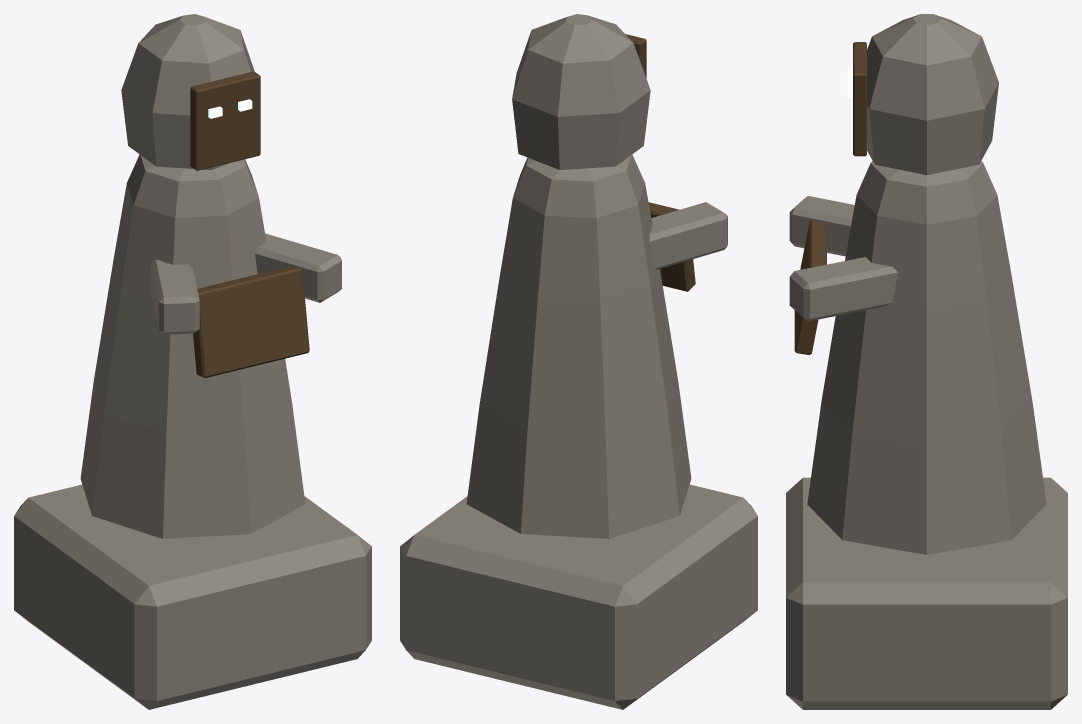
Rendered from Prop_Lab_GateRiddler_LOD1.glb.
The picture shows the model from 3 angles, left to right: view 1: azimuth 30°, elevation 25°; view 2: azimuth 150°, elevation 25°; view 3: azimuth 270°, elevation 25°; orthographic projection. The views are drawn at different scales.
Visible parts, largest first — view 1: Prop_Lab_GateRiddler; view 2: Prop_Lab_GateRiddler; view 3: Prop_Lab_GateRiddler.
Boxes of the visible parts, x1,y1,x2,y2 form: Prop_Lab_GateRiddler: [14, 14, 371, 709]; Prop_Lab_GateRiddler: [400, 14, 757, 709]; Prop_Lab_GateRiddler: [786, 14, 1067, 709].
Size of the model in its own units: 0.8 by 2 by 0.8.
